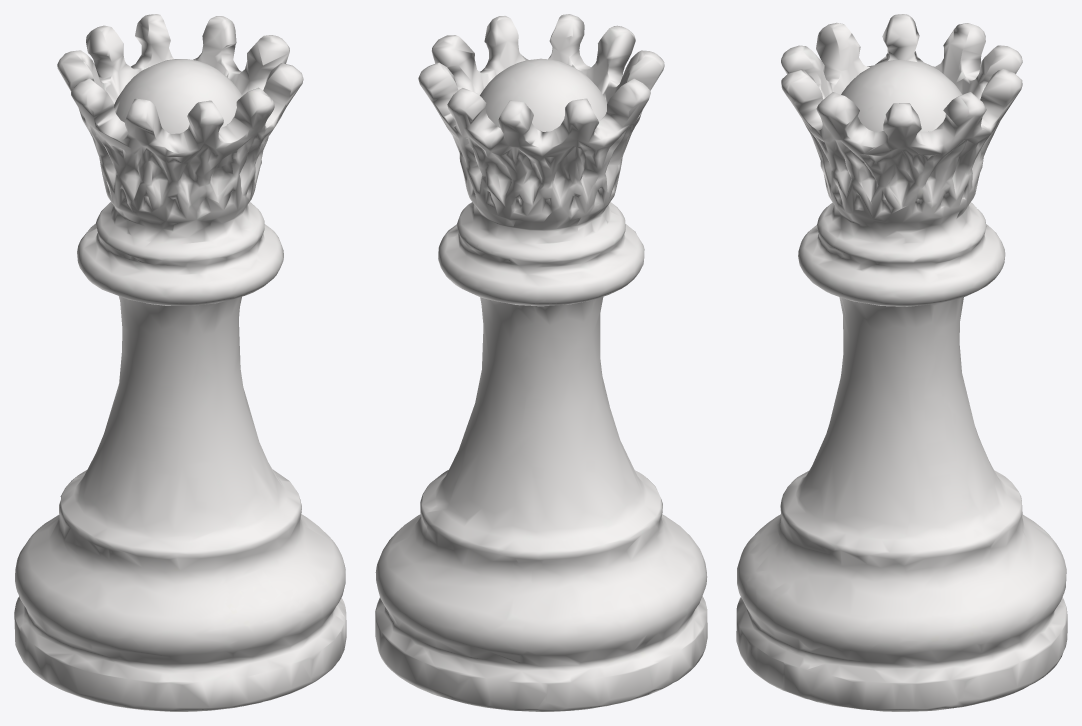
The model's file is queen_low.glb.
The picture shows the model from 3 angles, left to right: view 1: azimuth 30°, elevation 25°; view 2: azimuth 150°, elevation 25°; view 3: azimuth 270°, elevation 25°; orthographic projection.
Visible parts, largest first — view 1: world; view 2: world; view 3: world.
Boxes of the visible parts, left/top/right/bottom form: world: left=14, top=14, right=346, bottom=711; world: left=375, top=14, right=707, bottom=711; world: left=736, top=14, right=1067, bottom=711.
Bounding box in the file's own units: 0.5058 × 0.9858 × 0.5055.
Materials: 1 (1 with a texture image).
